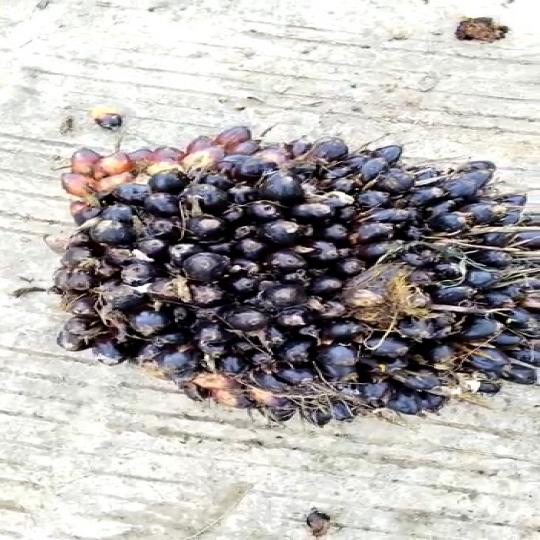mentah: (62, 127, 540, 429)
